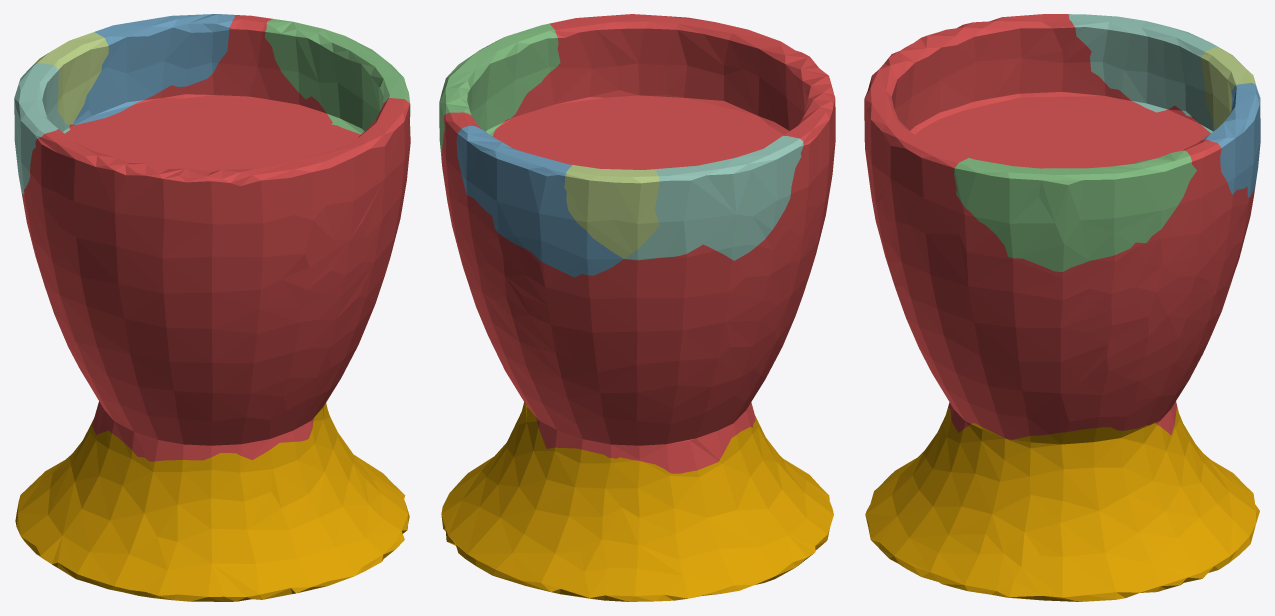
Rendered from fractured_4_6pcs.glb.
The picture shows the model from 3 angles, left to right: view 1: azimuth 30°, elevation 25°; view 2: azimuth 150°, elevation 25°; view 3: azimuth 270°, elevation 25°; orthographic projection.
Visible parts, largest first — view 1: piece_1.obj, piece_0.obj, piece_2.obj, piece_3.obj, piece_4.obj, piece_5.obj; view 2: piece_1.obj, piece_0.obj, piece_4.obj, piece_2.obj, piece_3.obj, piece_5.obj; view 3: piece_1.obj, piece_0.obj, piece_3.obj, piece_4.obj, piece_2.obj, piece_5.obj.
Part boxes in pixels (x1=…): piece_1.obj: x1=21, y1=15, x2=410, y2=461; piece_0.obj: x1=15, y1=403, x2=409, y2=601; piece_2.obj: x1=73, y1=14, x2=234, y2=124; piece_3.obj: x1=265, y1=19, x2=410, y2=134; piece_4.obj: x1=14, y1=63, x2=70, y2=194; piece_5.obj: x1=33, y1=32, x2=108, y2=124; piece_1.obj: x1=441, y1=14, x2=835, y2=473; piece_0.obj: x1=441, y1=402, x2=833, y2=601; piece_4.obj: x1=624, y1=136, x2=803, y2=260; piece_2.obj: x1=456, y1=126, x2=623, y2=277; piece_3.obj: x1=439, y1=23, x2=560, y2=157; piece_5.obj: x1=564, y1=165, x2=659, y2=258; piece_1.obj: x1=864, y1=14, x2=1254, y2=440; piece_0.obj: x1=865, y1=407, x2=1259, y2=601; piece_3.obj: x1=954, y1=150, x2=1196, y2=271; piece_4.obj: x1=1068, y1=14, x2=1217, y2=132; piece_2.obj: x1=1202, y1=83, x2=1260, y2=197; piece_5.obj: x1=1201, y1=46, x2=1256, y2=129.
Size of the model in its own units: 0.8413 by 0.9997 by 0.8403.
